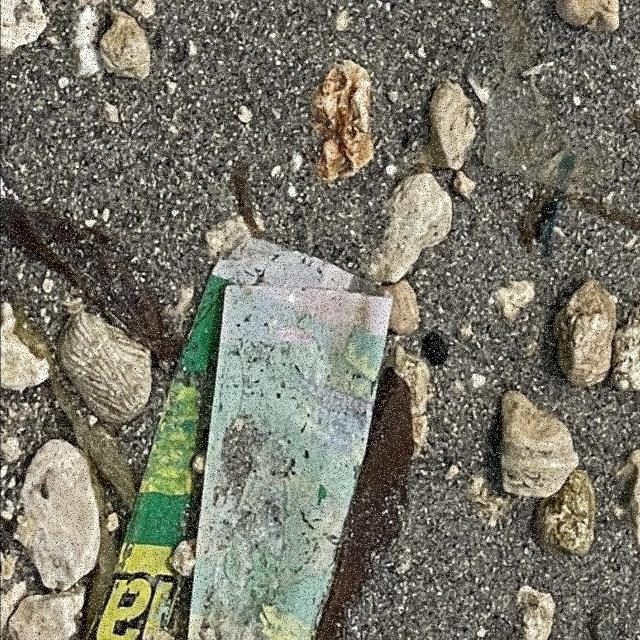plastic_waste: (95, 236, 396, 640)
